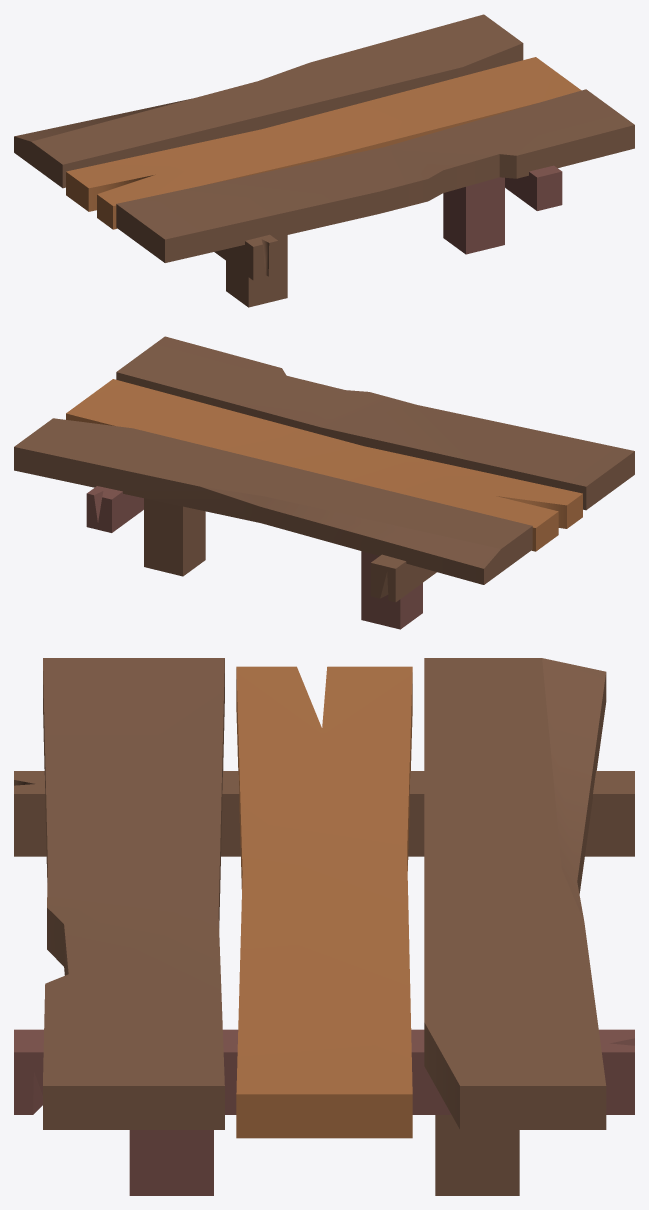
The model's file is 3-Table.glb.
3 renders of one model, top to bottom at view 1: azimuth 30°, elevation 25°; view 2: azimuth 150°, elevation 25°; view 3: azimuth 270°, elevation 25°, orthographic. The views are drawn at different scales.
Parts seen in each view (by area): view 1: 3-Table; view 2: 3-Table; view 3: 3-Table.
Boxes of the visible parts, x1,y1,x2,y2 form: 3-Table: (14, 14, 634, 307); 3-Table: (14, 336, 634, 629); 3-Table: (14, 658, 634, 1195).
Size of the model in its own units: 2.4 by 0.5419 by 1.47.
Materials: 1 (1 with a texture image).
